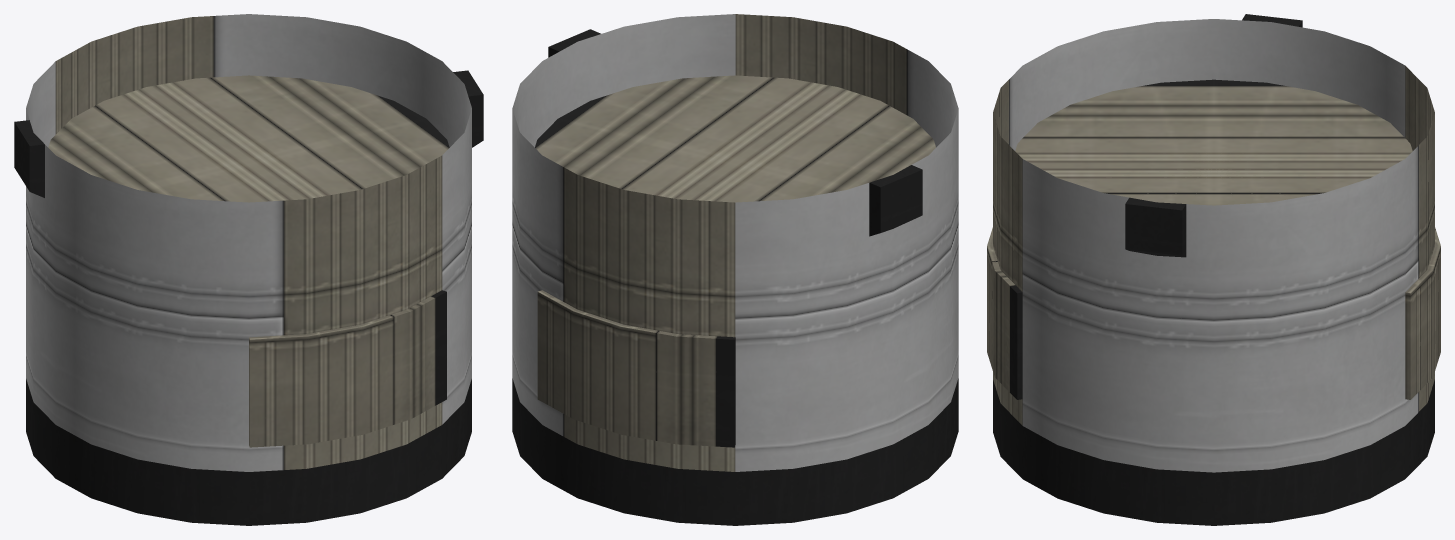
Rendered from lower engine mount.obj.
3 views of the same model, side by side, from view 1: azimuth 30°, elevation 25°; view 2: azimuth 150°, elevation 25°; view 3: azimuth 270°, elevation 25° (orthographic).
Visible parts, largest first — view 1: 3, 3_fairing; view 2: 3, 3_fairing; view 3: 3, 3_fairing.
Part boxes in pixels (x1=…): 3: x1=14, y1=14, x2=483, y2=471; 3_fairing: x1=26, y1=379, x2=471, y2=525; 3: x1=512, y1=14, x2=958, y2=471; 3_fairing: x1=512, y1=378, x2=958, y2=525; 3: x1=987, y1=14, x2=1440, y2=472; 3_fairing: x1=993, y1=380, x2=1434, y2=525.
Bounding box in the file's own units: 1.97 × 1.5 × 1.93.
